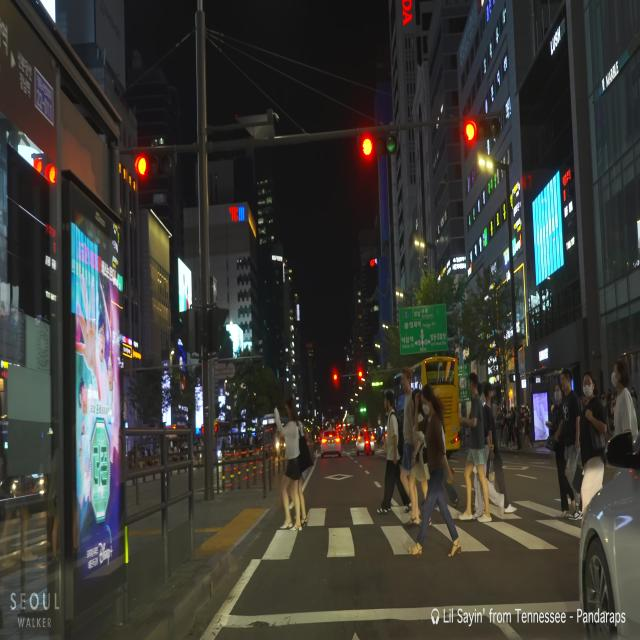Red Light: (464, 118, 476, 142), (361, 136, 373, 156)
